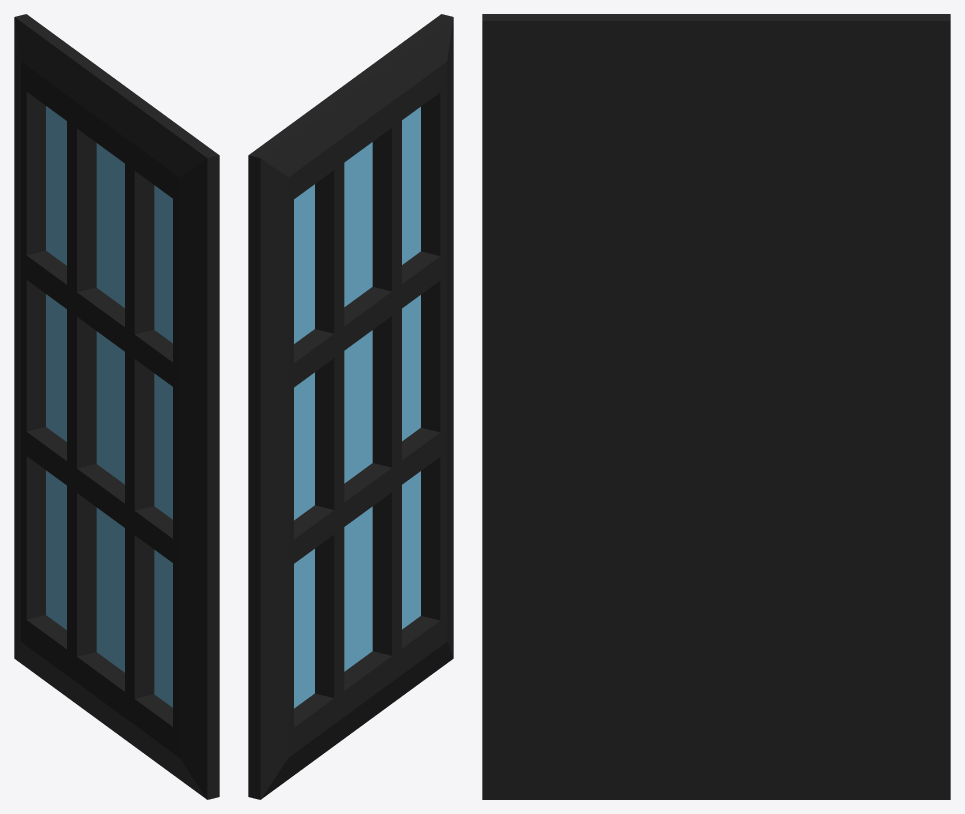
File: Slum_SmallWindowTicTacToe.fbx
3 views of the same model, side by side, from view 1: azimuth 30°, elevation 25°; view 2: azimuth 150°, elevation 25°; view 3: azimuth 270°, elevation 25° (orthographic). The views are drawn at different scales.
Parts seen in each view (by area): view 1: Box001; view 2: Box001; view 3: Box001.
Part boxes in pixels (x1=…): Box001: x1=14, y1=14, x2=219, y2=799; Box001: x1=248, y1=14, x2=453, y2=799; Box001: x1=482, y1=14, x2=950, y2=799.
Bounding box in the file's own units: 0.0817 × 2.21 × 1.21.
